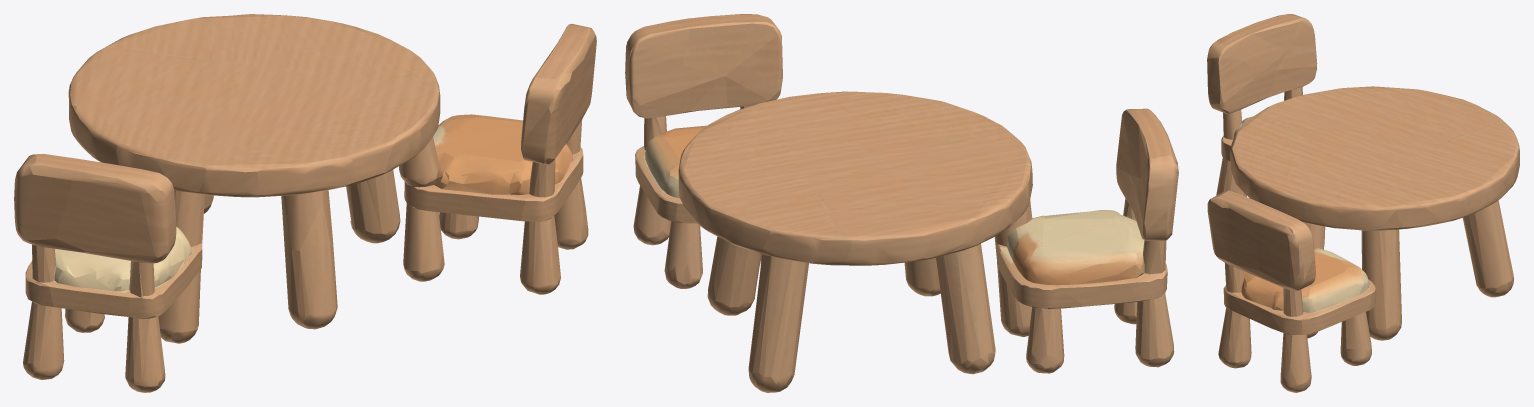
Rendered from table.glb.
3 views of the same model, side by side, from view 1: azimuth 30°, elevation 25°; view 2: azimuth 150°, elevation 25°; view 3: azimuth 270°, elevation 25° (orthographic). The views are drawn at different scales.
Size of the model in its own units: 2.02 by 0.75 by 1.21.
1 material, 1 textured.
